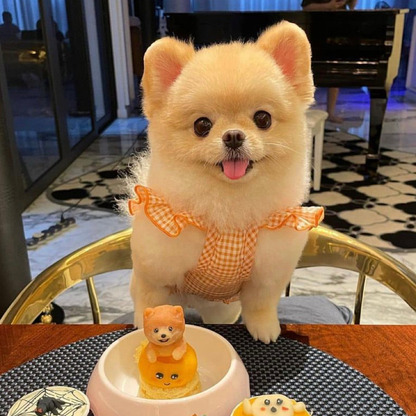Pomeranian: (105, 29, 347, 354)
